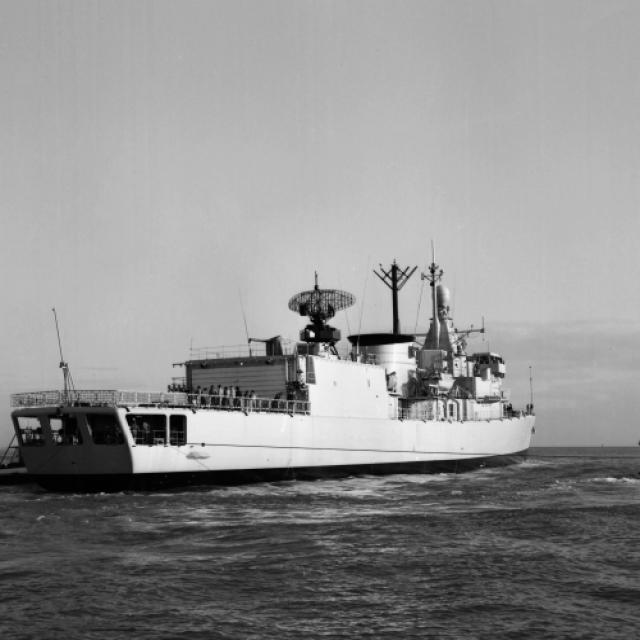Fragata: (1, 234, 545, 491)
